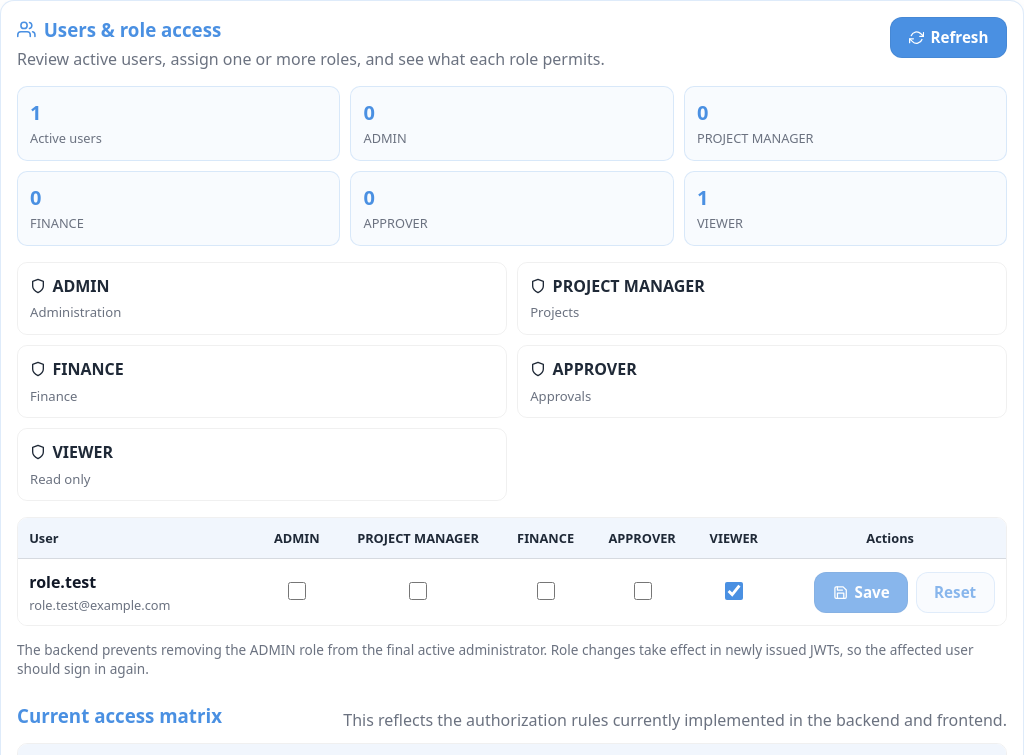
UserRoleManagement › saves multiple roles in the expected request body
The image size is (1024, 755).
Expected: the text "role.test" is shown, [29,571,96,593]
Click the checkbox named "Assign VIEWER to role.test". click: click(734, 591)
box: [725,582,743,600]
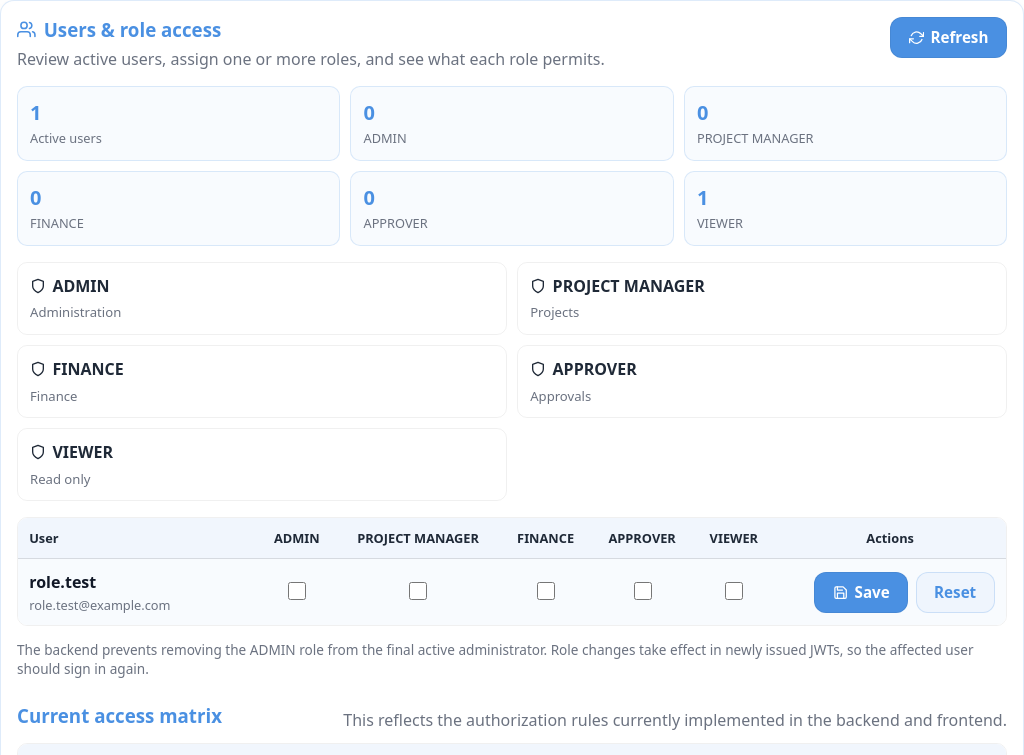
Click the checkbox named "Assign FINANCE to role.test". click: click(546, 591)
box: [537,582,555,600]
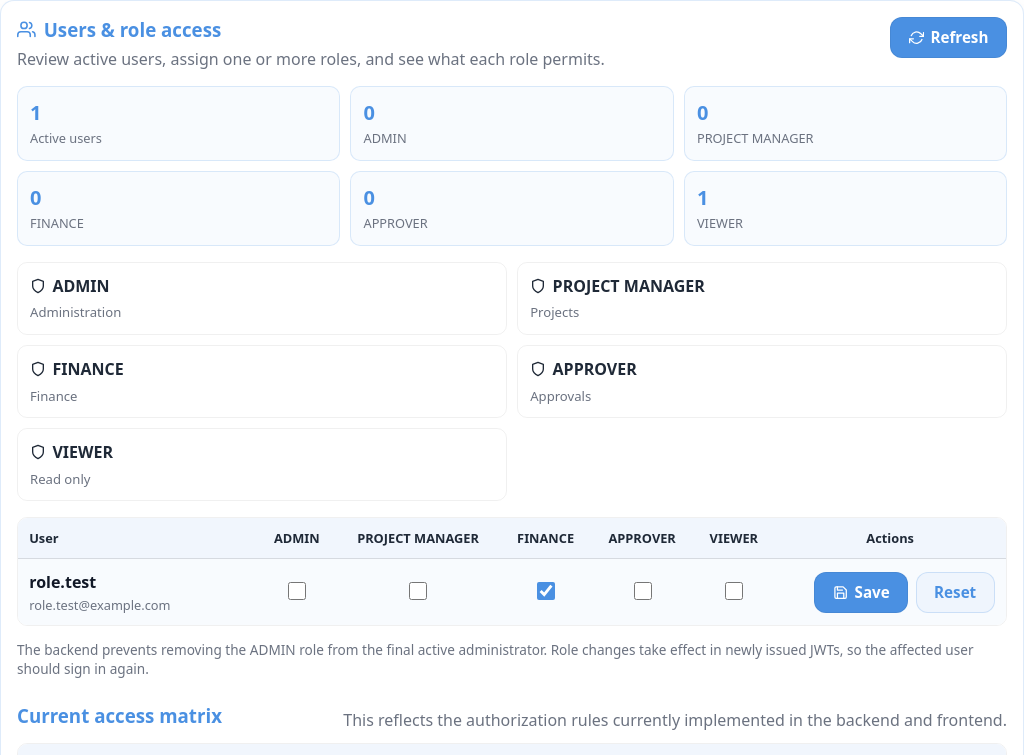
Click the checkbox named "Assign APPROVER to role.test". click: click(643, 591)
box: [634,582,652,600]
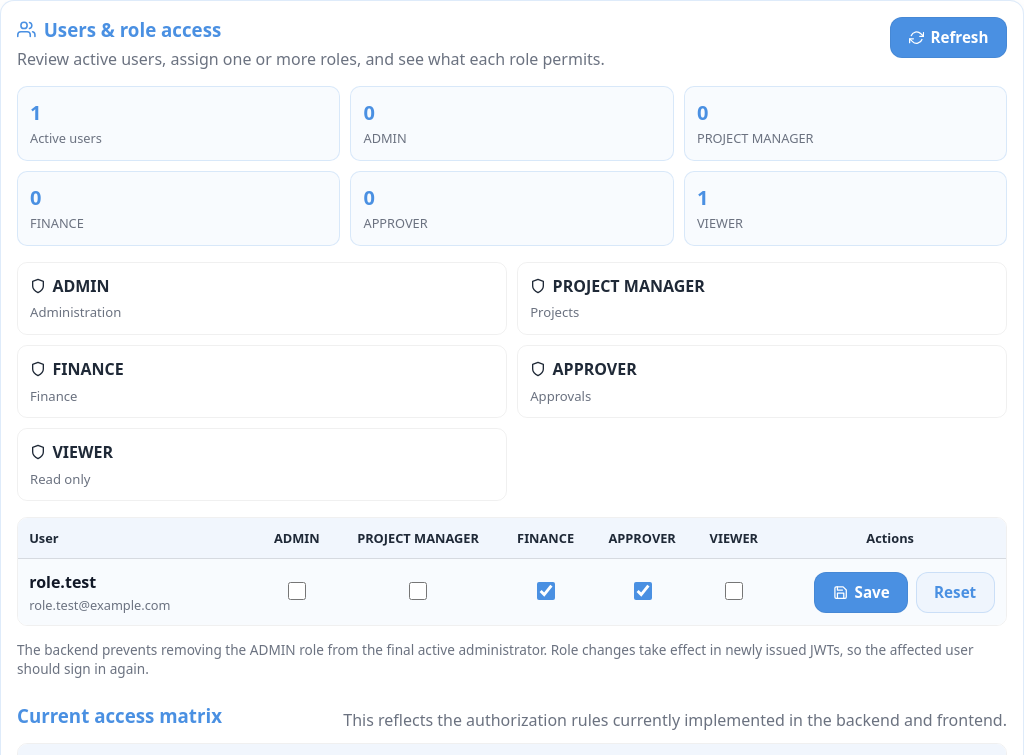
Click the button "Save". click: click(861, 592)
box: [814,572,908,613]
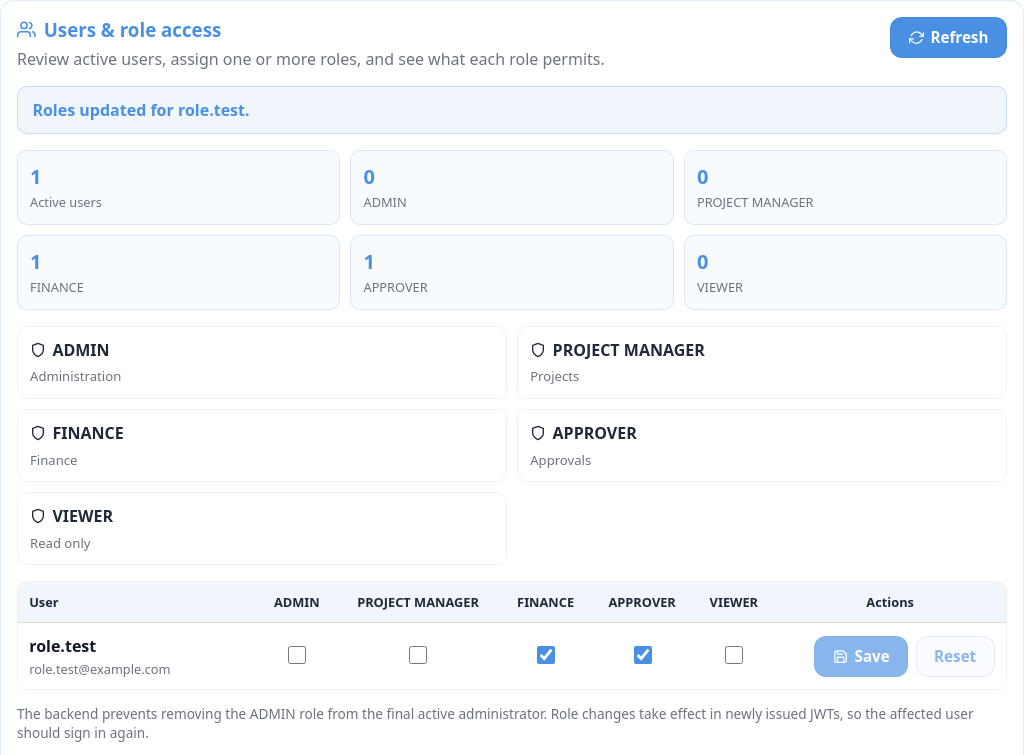
Now the text "Roles updated for role.test." is shown, box [17,86,1007,134]
